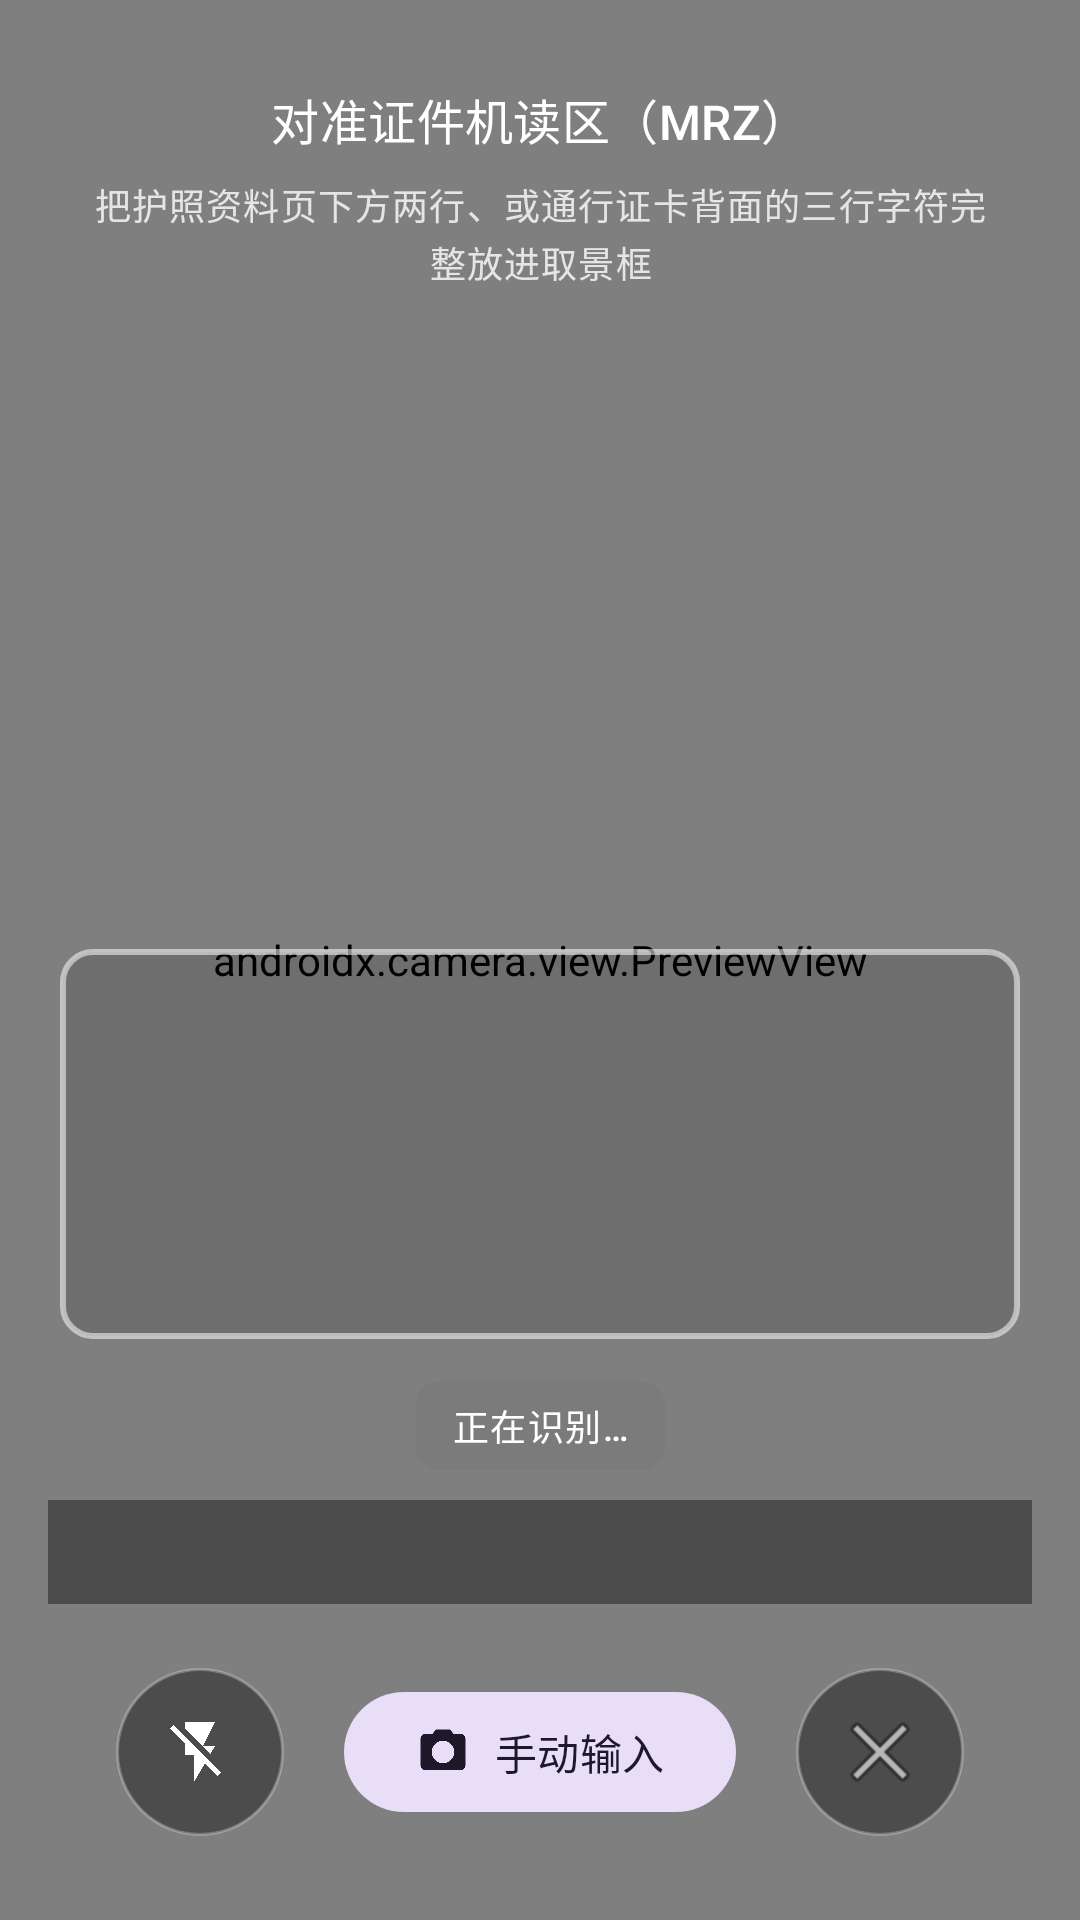

Screen size 1080px×1920px. Icon name, then its box in pixels as (x1, y1, x2, y2):
关闭: (796, 1668, 964, 1836)
闪光灯: (116, 1668, 284, 1836)
